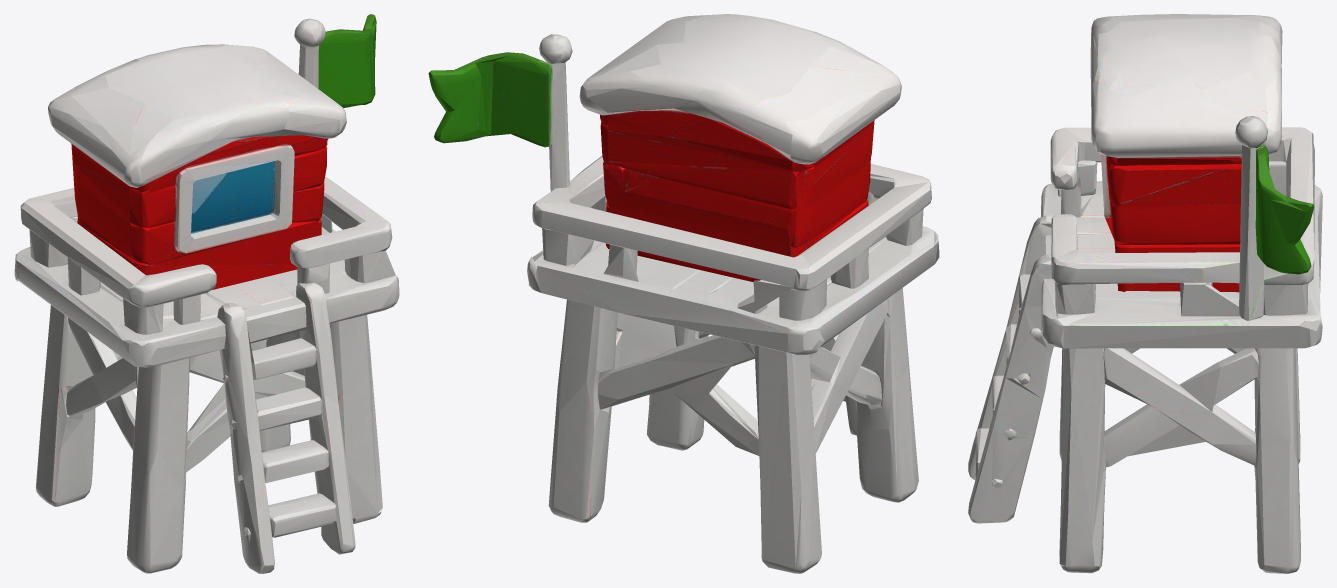
File: strand-livredder.glb
3 renders of one model, left to right at view 1: azimuth 30°, elevation 25°; view 2: azimuth 150°, elevation 25°; view 3: azimuth 270°, elevation 25°, orthographic. The views are drawn at different scales.
Size of the model in its own units: 1.67 by 1.9 by 1.31.
Materials: 1 (1 with a texture image).
